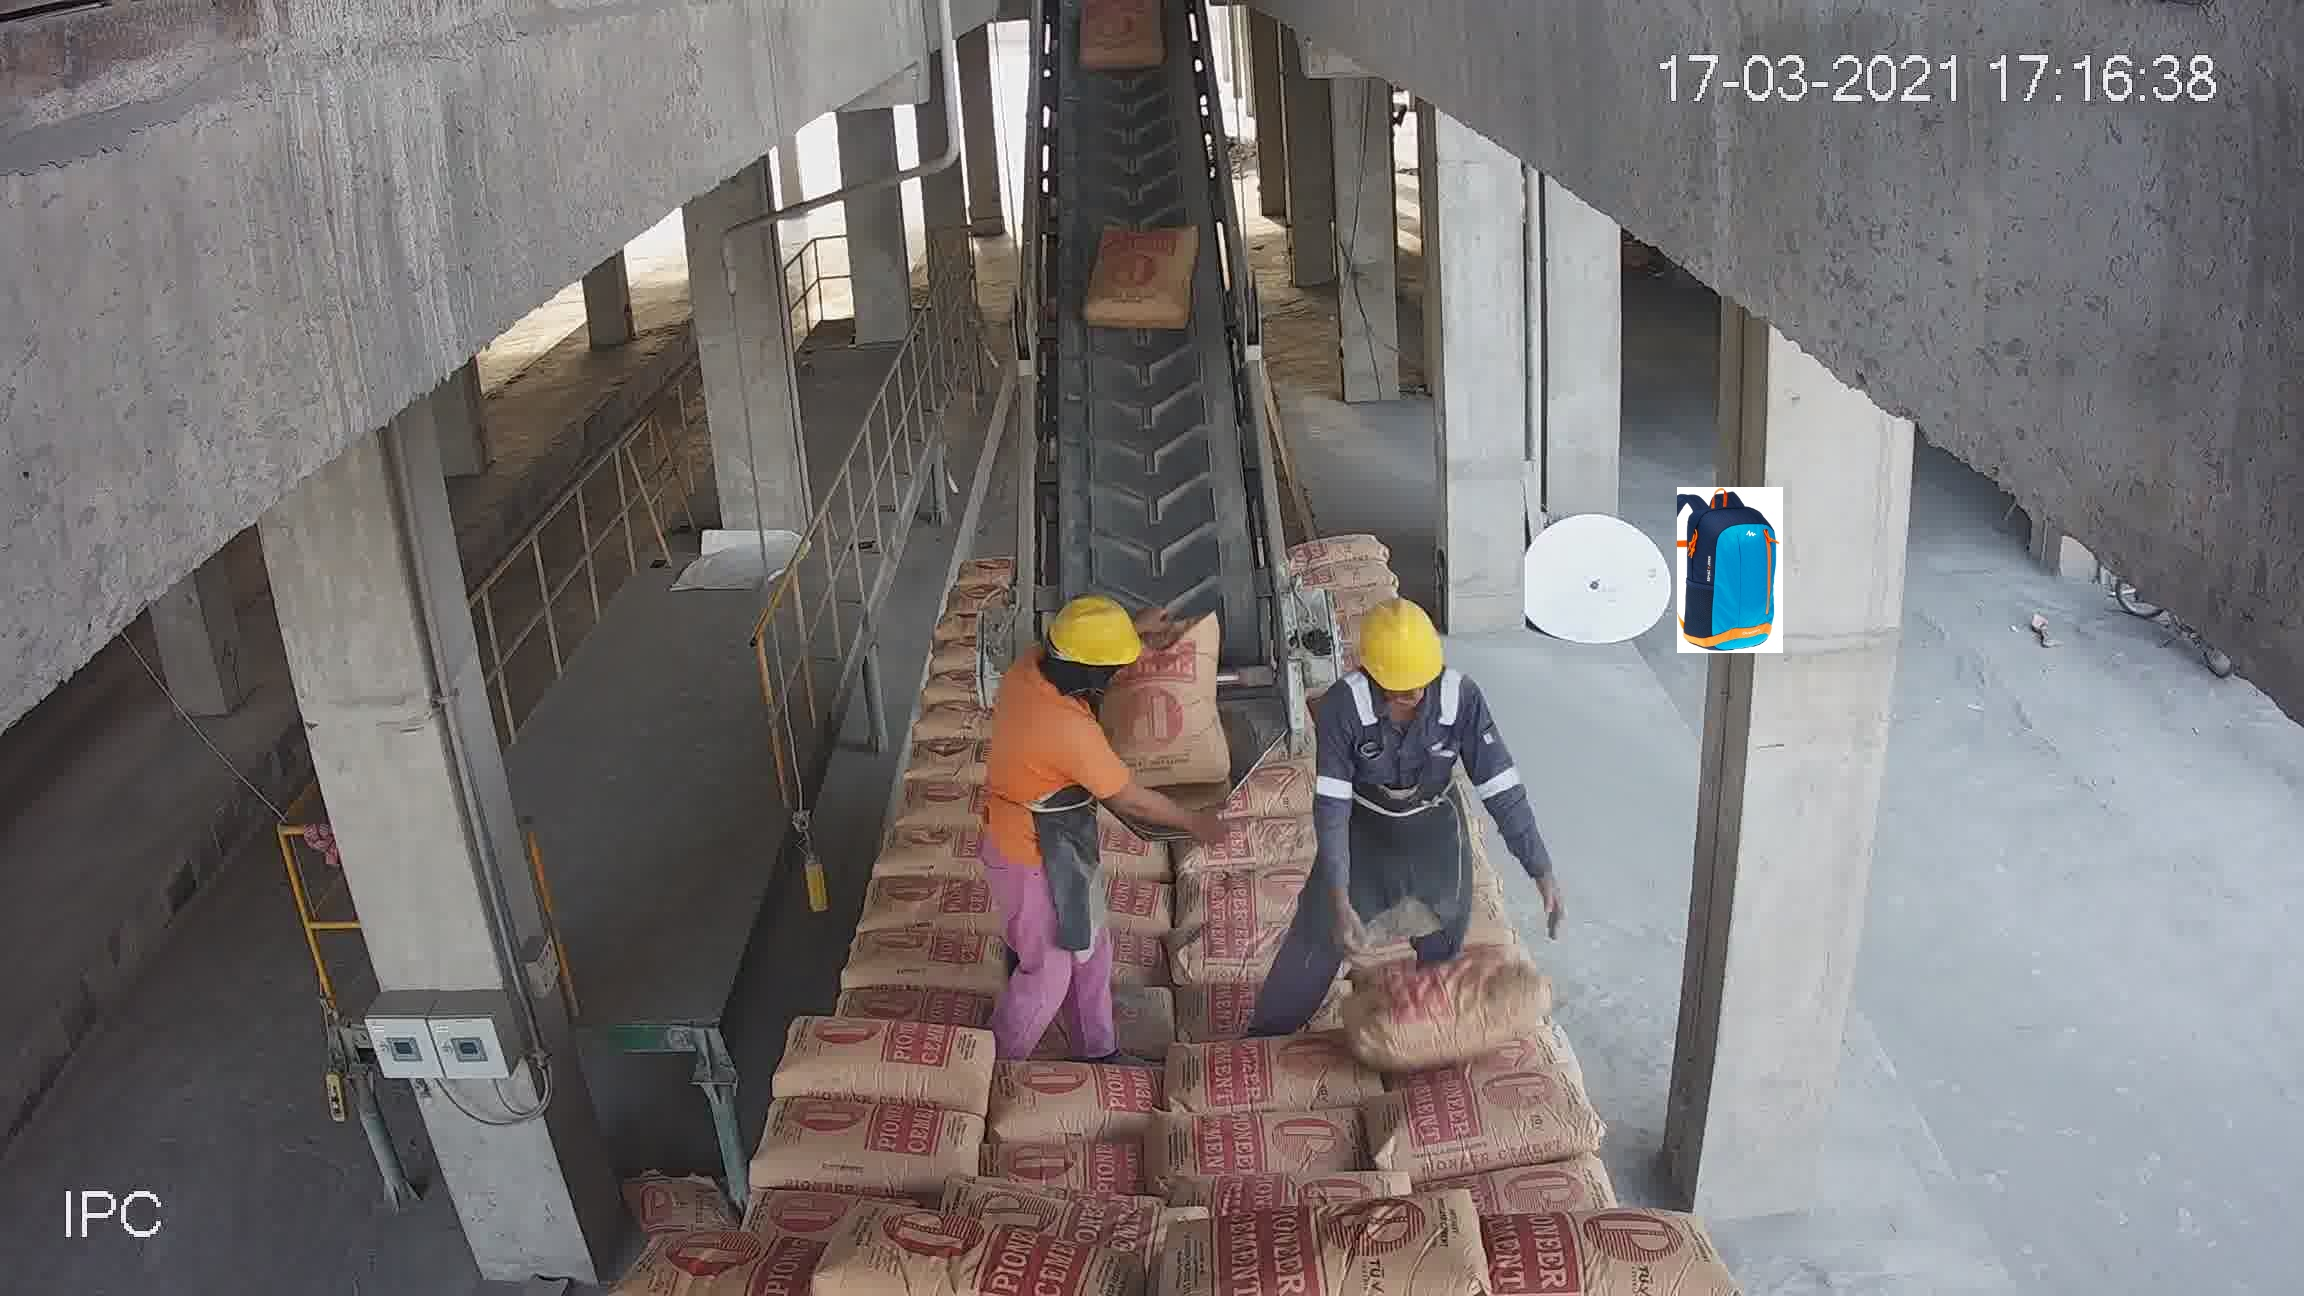bag: (1124, 612, 1220, 785), (1082, 215, 1198, 332)
bag_h: (1179, 1173, 1537, 1296), (788, 1215, 1128, 1294), (1348, 949, 1567, 1067), (1442, 1203, 1709, 1296), (1370, 1079, 1582, 1193), (748, 1101, 994, 1198), (1147, 1095, 1374, 1190), (775, 1017, 991, 1105), (1168, 1033, 1366, 1116), (965, 1067, 1173, 1136), (638, 1230, 847, 1296), (839, 910, 1017, 972), (1160, 915, 1283, 992), (981, 1139, 1147, 1196), (1165, 864, 1305, 930), (1169, 807, 1302, 877), (824, 983, 991, 1035), (864, 859, 987, 927), (883, 820, 978, 896), (900, 767, 994, 821), (1301, 555, 1404, 597), (1288, 533, 1396, 571)
belt: (995, 14, 1293, 771)
